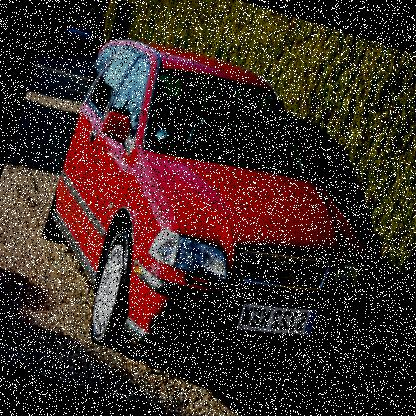Car: (15, 0, 415, 415), (60, 13, 98, 55)
